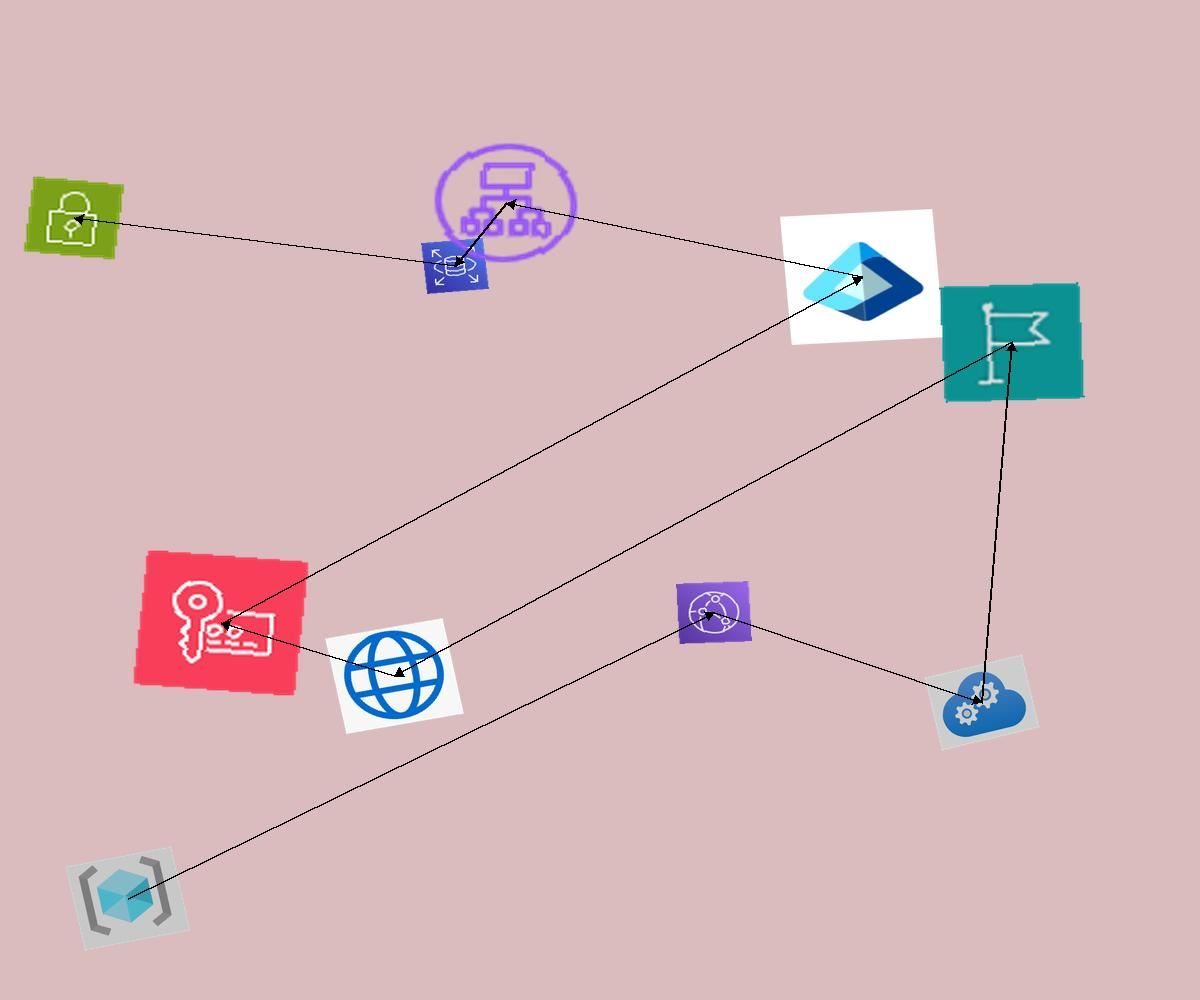AWS-CloudFront: (676, 581, 752, 644)
AWS-Key-Management-Service: (132, 549, 310, 697)
AWS-Public-subnet: (22, 175, 126, 261)
AWS-RDS: (421, 238, 489, 294)
AWS-Region: (939, 282, 1085, 403)
AWS-Res_Elastic-Load-Balancing_Application-Load-Balancer: (422, 133, 590, 273)
Azure_cloud_services: (924, 654, 1040, 751)
Azure_http: (325, 618, 464, 734)
Azure_microsoft_entra: (780, 209, 944, 345)
Azure_resource_group: (65, 846, 191, 951)
